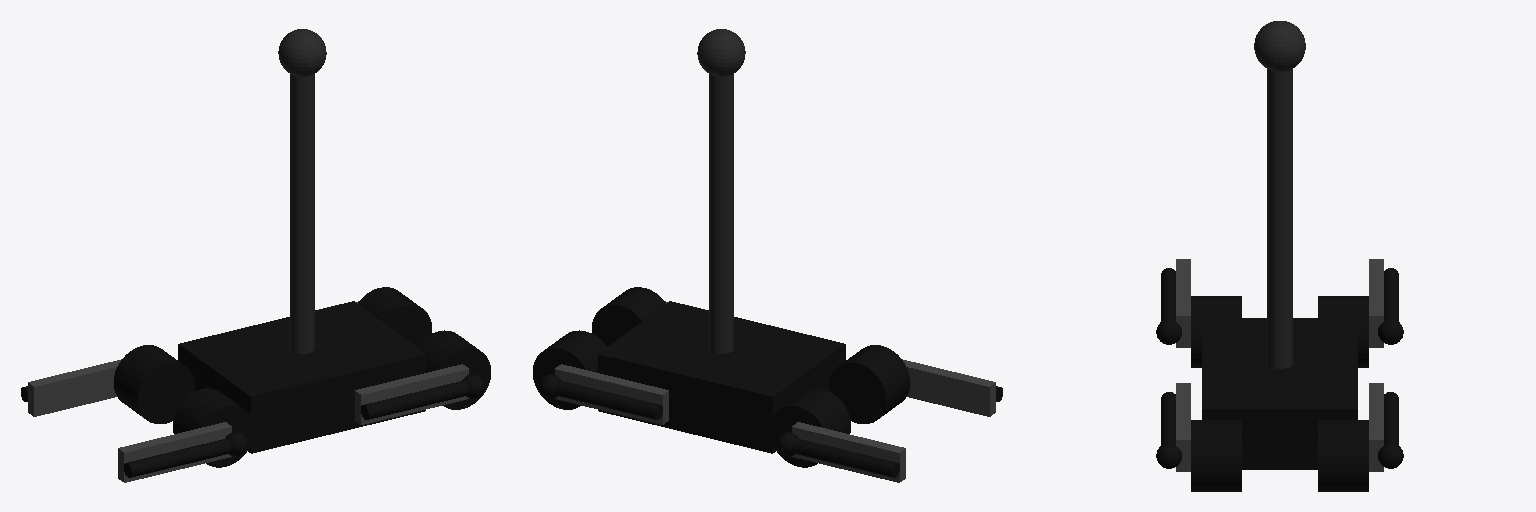
--- Facts derived from the render (not from the file) ---
3 views of the same robot in one strip: view 1: azimuth 30°, elevation 25°; view 2: azimuth 150°, elevation 25°; view 3: azimuth 270°, elevation 25° (orthographic).
Model spirit with 20 links and 19 joints (14 revolute, 5 fixed), rooted at body, posed every joint at zero.
Links seen in each view (by area): view 1: body, tail_link_1, hip1, upper1, hip3, hip2, upper2, upper3, hip0, tail_mass, lower2, lower3; view 2: body, tail_link_1, hip3, upper3, hip1, hip0, upper0, upper1, hip2, tail_mass, lower0, lower1; view 3: body, tail_link_1, hip0, hip2, tail_mass, hip1, hip3, upper0, upper1, upper2, upper3, lower0 (+3 smaller).
Boxes of the visible links, box(x1,y1,x2,y2) form: body: box(178, 301, 425, 453); tail_link_1: box(290, 74, 314, 353); hip1: box(113, 345, 194, 423); upper1: box(28, 359, 121, 416); hip3: box(173, 388, 253, 467); hip2: box(417, 330, 490, 409); upper2: box(355, 364, 468, 424); upper3: box(118, 422, 231, 482); hip0: box(358, 287, 431, 346); tail_mass: box(278, 29, 326, 76); lower2: box(361, 381, 468, 419); lower3: box(124, 438, 231, 477); body: box(598, 301, 845, 453); tail_link_1: box(709, 74, 733, 353); hip3: box(829, 345, 910, 423); upper3: box(902, 359, 995, 416); hip1: box(770, 388, 850, 467); hip0: box(533, 330, 606, 409); upper0: box(555, 364, 668, 424); upper1: box(792, 422, 905, 482); hip2: box(592, 287, 665, 346); tail_mass: box(697, 29, 745, 76); lower0: box(555, 381, 662, 419); lower1: box(792, 438, 899, 477); body: box(1202, 318, 1357, 469); tail_link_1: box(1267, 69, 1292, 368); hip0: box(1318, 420, 1368, 491); hip2: box(1191, 420, 1241, 491); tail_mass: box(1254, 21, 1305, 71); hip1: box(1318, 296, 1368, 367); hip3: box(1191, 296, 1241, 367); upper0: box(1369, 383, 1383, 471); upper1: box(1369, 259, 1383, 347); upper2: box(1176, 383, 1190, 471); upper3: box(1176, 259, 1190, 347); lower0: box(1384, 392, 1398, 445).
Bounding box of the posed robot: 0.7136 × 0.382 × 0.687 m (x, y, z).
Geometry: primitives only (box / cylinder / sphere), no mesh files.

URDF robot description (spirit):
<?xml version="1.0" encoding="utf-8"?>
<!-- =================================================================================== -->
<!-- |    This document was autogenerated by xacro from spirit40_gaz.urdf.xacro        | -->
<!-- |    EDITING THIS FILE BY HAND IS NOT RECOMMENDED                                 | -->
<!-- =================================================================================== -->
<!--
 * Copyright (C) Ghost Robotics - All Rights Reserved
 * Unauthorized copying of this file, via any medium is strictly prohibited
 * Proprietary and confidential
 * Written by Avik De <[email redacted]> and Tom Jacobs <[email redacted]>
-->
<robot name="spirit">
  <!-- Define materials -->
  <material name="gray">
    <color rgba="0.2 0.2 0.2 1.0"/>
  </material>
  <material name="darkgray">
    <color rgba="0.1 0.1 0.1 1.0"/>
  </material>
  <material name="silver">
    <color rgba="0.3 0.3 0.3 1.0"/>
  </material>
  <material name="red">
    <color rgba="0.8 0.0 0.2 1.0"/>
  </material>
  <!-- Body -->
  <link name="body">
    <visual>
      <origin rpy="0 0 0" xyz="0 0 0"/>
      <geometry>
        <box size="0.335 0.24 0.104"/>
      </geometry>
      <material name="darkgray"/>
    </visual>
    <inertial>
      <mass value="5.75"/>
      <!-- Uniform box -->
      <!-- <inertia ixx="1/12*${bodyMass}*(${bodyWidth}*${bodyWidth} + ${bodyHeight}*${bodyHeight})"  ixy="0"  ixz="0" iyy="1/12*${bodyMass}*(${bodyLength}*${bodyLength} + ${bodyHeight}*${bodyHeight})" iyz="0" izz="1/12*${bodyMass}*(${bodyLength}*${bodyLength} + ${bodyWidth}*${bodyWidth})"/> -->
      <inertia ixx="0.05" ixy="0" ixz="0" iyy="0.1" iyz="0" izz="0.1"/>
    </inertial>
    <!-- Just copy geometry for collision -->
    <collision>
      <origin rpy="0 0 0" xyz="0 0 0"/>
      <geometry>
        <box size="0.335 0.24 0.104"/>
      </geometry>
    </collision>
  </link>
  <gazebo reference="body">
    <gravity>true</gravity>
    <sensor name="imu_sensor" type="imu">
      <always_on>true</always_on>
      <visualize>true</visualize>
      <topic>__default_topic_</topic>
      <plugin filename="libgazebo_ros_imu_sensor.so" name="imu_plugin">
        <topicName>imu</topicName>
        <bodyName>body</bodyName>
        <updateRateHZ>500.0</updateRateHZ>
        <gaussianNoise>0.0</gaussianNoise>
        <xyzOffset>0 0 0</xyzOffset>
        <rpyOffset>0 0 0</rpyOffset>
        <frameName>body</frameName>
        <initialOrientationAsReference>true</initialOrientationAsReference>
      </plugin>
      <pose>0 0 0 0 0 0</pose>
    </sensor>
  </gazebo>
  <!-- Hip motor -->
  <link name="hip0">
    <visual>
      <origin rpy="1.5707963268 0 0" xyz="0.0 0.028 0"/>
      <geometry>
        <cylinder length="0.08" radius="0.055"/>
      </geometry>
      <material name="darkgray"/>
    </visual>
    <collision>
      <origin rpy="1.5707963268 0 0" xyz="0 0.028 0"/>
      <geometry>
        <cylinder length="0.08" radius="0.055"/>
      </geometry>
    </collision>
    <inertial>
      <mass value="0.575"/>
      <!-- <inertia ixx="1/12*${podMass}*${podLength}*${podLength} + 1/4*${podMass}*${podRadius}*${podRadius}"  ixy="0"  ixz="0" iyy="1/12*${podMass}*${podLength}*${podLength} + 1/4*${podMass}*${podRadius}*${podRadius}" iyz="0" izz="1/2*${podMass}*${podRadius}*$
				{podRadius}" /> -->
      <inertia ixx="0.00066963541" ixy="0" ixz="0" iyy="0.00066963541" iyz="0" izz="0.0008696875"/>
    </inertial>
  </link>
  <gazebo reference="hip0">
    <material>Gazebo/Gray</material>
  </gazebo>
  <!-- Abduction joint. Joint names are: 8 9 10 11 -->
  <joint name="8" type="revolute">
    <parent link="body"/>
    <child link="hip0"/>
    <axis xyz="1 0 0"/>
    <origin xyz="0.2263 0.07 0"/>
    <limit effort="40" lower="-0.707" upper="0.707" velocity="30"/>
    <dynamics damping="0.0" friction="0.0"/>
  </joint>
  <!-- Transmission elements required for Gazebo -->
  <transmission name="transmission_8">
    <type>transmission_interface/SimpleTransmission</type>
    <joint name="8">
      <hardwareInterface>hardware_interface/EffortJointInterface</hardwareInterface>
    </joint>
    <actuator name="motor_8">
      <hardwareInterface>EffortJointInterface</hardwareInterface>
      <mechanicalReduction>1</mechanicalReduction>
    </actuator>
  </transmission>
  <!-- Upper leg -->
  <link name="upper0">
    <visual>
      <origin rpy="0 0 0" xyz="-0.103 -0.022 0"/>
      <geometry>
        <box size="0.206 0.022 0.055"/>
      </geometry>
      <material name="silver"/>
    </visual>
    <collision>
      <origin rpy="0 0 0" xyz="-0.103 -0.022 0"/>
      <geometry>
        <box size="0.206 0.022 0.055"/>
      </geometry>
    </collision>
    <inertial>
      <origin rpy="0 0 0" xyz="-0.040 -0.041 0"/>
      <mass value="0.792"/>
      <inertia ixx="5e-03" ixy="0" ixz="0" iyy="0.0070" iyz="0" izz="0.0070"/>
    </inertial>
  </link>
  <gazebo reference="upper0">
    <material>Gazebo/Gray</material>
  </gazebo>
  <!-- Hip joint. (Motor to upper leg). Joint names are: 0 2 4 6 -->
  <joint name="0" type="revolute">
    <parent link="hip0"/>
    <child link="upper0"/>
    <axis xyz="0 -1 0"/>
    <origin xyz="0 0.10098 0"/>
    <!--  rpy="0 -0.3 0" -->
    <limit effort="40" lower="-6.28318530718" upper="6.28318530718" velocity="30"/>
    <dynamics damping="0.0" friction="0.0"/>
  </joint>
  <!-- Transmission elements required for Gazebo -->
  <transmission name="transmission_0">
    <type>transmission_interface/SimpleTransmission</type>
    <joint name="0">
      <hardwareInterface>hardware_interface/EffortJointInterface</hardwareInterface>
    </joint>
    <actuator name="motor_0">
      <hardwareInterface>EffortJointInterface</hardwareInterface>
      <mechanicalReduction>1</mechanicalReduction>
    </actuator>
  </transmission>
  <!-- Lower leg -->
  <link name="lower0">
    <visual>
      <origin rpy="0 1.5707963268 0" xyz="0.103 0 0"/>
      <geometry>
        <cylinder length="0.206" radius="0.013"/>
      </geometry>
      <material name="darkgray"/>
    </visual>
    <collision>
      <origin rpy="0 1.5707963268 0" xyz="0.103 0 0"/>
      <geometry>
        <cylinder length="0.206" radius="0.013"/>
      </geometry>
    </collision>
    <inertial>
      <origin rpy="0 0 0" xyz="0.092 0 0"/>
      <mass value="0.096"/>
      <inertia ixx="1.3e-05" ixy="0" ixz="0" iyy="0.00047" iyz="0" izz="0.00047"/>
    </inertial>
  </link>
  <gazebo reference="lower0">
    <material>Gazebo/Black</material>
  </gazebo>
  <!-- Knee joint. Joint names are: 1 3 5 7 -->
  <joint name="1" type="revolute">
    <parent link="upper0"/>
    <child link="lower0"/>
    <axis xyz="0 1 0"/>
    <origin xyz="-0.206 0 0"/>
    <!--rpy="0 0.5 0"-->
    <limit effort="40" lower="0" upper="3.14159265359" velocity="30"/>
    <dynamics damping="0.0" friction="0.0"/>
  </joint>
  <!-- Transmission elements required for Gazebo -->
  <transmission name="transmission_1">
    <type>transmission_interface/SimpleTransmission</type>
    <joint name="1">
      <hardwareInterface>hardware_interface/EffortJointInterface</hardwareInterface>
    </joint>
    <actuator name="motor_1">
      <hardwareInterface>EffortJointInterface</hardwareInterface>
      <mechanicalReduction>1</mechanicalReduction>
    </actuator>
  </transmission>
  <!-- Toe -->
  <link name="toe0">
    <contact>
      <friction_anchor/>
      <stiffness value="30000.0"/>
      <damping value="1000.0"/>
      <spinning_friction value="0.3"/>
      <lateral_friction value="50.0"/>
    </contact>
    <visual>
      <origin rpy="0 0 0" xyz="0 0 0"/>
      <geometry>
        <sphere radius="0.02"/>
      </geometry>
      <material name="darkgray"/>
    </visual>
    <collision>
      <origin rpy="0 0 0" xyz="0 0 0"/>
      <geometry>
        <sphere radius="0.02"/>
      </geometry>
      <surface>
        <friction>
          <ode>
            <mu>100000</mu>
            <mu2>100000</mu2>
          </ode>
        </friction>
        <contact>
          <ode>
            <kp>30000.0</kp>
            <kd>1000.0</kd>
          </ode>
        </contact>
      </surface>
    </collision>
    <inertial>
      <mass value="0.015"/>
      <inertia ixx="0.000025" ixy="0" ixz="0" iyy="0.000025" iyz="0" izz="0.000025"/>
      <!-- <inertia ixx="2/5*${toeMass}*${toeRadius}*${toeRadius}"  ixy="0"  ixz="0" iyy="2/5*${toeMass}*${toeRadius}*${toeRadius}" iyz="0" izz="2/5*${toeMass}*${toeRadius}*${toeRadius}" /> -->
    </inertial>
  </link>
  <gazebo reference="toe0">
    <material>Gazebo/DarkGray</material>
    <collision>
      <surface>
        <bounce>
          <restitution_coefficient>0</restitution_coefficient>
          <threshold>1e+06</threshold>
        </bounce>
        <friction>
          <torsional>
            <coefficient>0.3</coefficient>
          </torsional>
          <ode>
            <mu>100.0</mu>
            <mu2>50.0</mu2>
          </ode>
          <bullet>
            <rolling_friction>0.3</rolling_friction>
            <friction2>50.0</friction2>
          </bullet>
        </friction>
        <contact>
          <bullet>
            <kp>30000.0</kp>
            <kd>1000.0</kd>
          </bullet>
          <ode>
            <kp>30000.0</kp>
            <kd>1000.0</kd>
          </ode>
        </contact>
      </surface>
    </collision>
  </gazebo>
  <joint name="jtoe0" type="fixed">
    <parent link="lower0"/>
    <child link="toe0"/>
    <origin xyz="0.206 0 -0.0"/>
    <dynamics damping="0.0" friction="0.0"/>
  </joint>
  <!-- Hip motor -->
  <link name="hip1">
    <visual>
      <origin rpy="1.5707963268 0 0" xyz="-0.0 0.028 0"/>
      <geometry>
        <cylinder length="0.08" radius="0.055"/>
      </geometry>
      <material name="darkgray"/>
    </visual>
    <collision>
      <origin rpy="1.5707963268 0 0" xyz="0 0.028 0"/>
      <geometry>
        <cylinder length="0.08" radius="0.055"/>
      </geometry>
    </collision>
    <inertial>
      <mass value="0.575"/>
      <!-- <inertia ixx="1/12*${podMass}*${podLength}*${podLength} + 1/4*${podMass}*${podRadius}*${podRadius}"  ixy="0"  ixz="0" iyy="1/12*${podMass}*${podLength}*${podLength} + 1/4*${podMass}*${podRadius}*${podRadius}" iyz="0" izz="1/2*${podMass}*${podRadius}*$
				{podRadius}" /> -->
      <inertia ixx="0.00066963541" ixy="0" ixz="0" iyy="0.00066963541" iyz="0" izz="0.0008696875"/>
    </inertial>
  </link>
  <gazebo reference="hip1">
    <material>Gazebo/Gray</material>
  </gazebo>
  <!-- Abduction joint. Joint names are: 8 9 10 11 -->
  <joint name="9" type="revolute">
    <parent link="body"/>
    <child link="hip1"/>
    <axis xyz="1 0 0"/>
    <origin xyz="-0.2263 0.07 0"/>
    <limit effort="40" lower="-0.707" upper="0.707" velocity="30"/>
    <dynamics damping="0.0" friction="0.0"/>
  </joint>
  <!-- Transmission elements required for Gazebo -->
  <transmission name="transmission_9">
    <type>transmission_interface/SimpleTransmission</type>
    <joint name="9">
      <hardwareInterface>hardware_interface/EffortJointInterface</hardwareInterface>
    </joint>
    <actuator name="motor_9">
      <hardwareInterface>EffortJointInterface</hardwareInterface>
      <mechanicalReduction>1</mechanicalReduction>
    </actuator>
  </transmission>
  <!-- Upper leg -->
  <link name="upper1">
    <visual>
      <origin rpy="0 0 0" xyz="-0.103 -0.022 0"/>
      <geometry>
        <box size="0.206 0.022 0.055"/>
      </geometry>
      <material name="silver"/>
    </visual>
    <collision>
      <origin rpy="0 0 0" xyz="-0.103 -0.022 0"/>
      <geometry>
        <box size="0.206 0.022 0.055"/>
      </geometry>
    </collision>
    <inertial>
      <origin rpy="0 0 0" xyz="-0.040 -0.041 0"/>
      <mass value="0.792"/>
      <inertia ixx="5e-03" ixy="0" ixz="0" iyy="0.0070" iyz="0" izz="0.0070"/>
    </inertial>
  </link>
  <gazebo reference="upper1">
    <material>Gazebo/Gray</material>
  </gazebo>
  <!-- Hip joint. (Motor to upper leg). Joint names are: 0 2 4 6 -->
  <joint name="2" type="revolute">
    <parent link="hip1"/>
    <child link="upper1"/>
    <axis xyz="0 -1 0"/>
    <origin xyz="0 0.10098 0"/>
    <!--  rpy="0 -0.3 0" -->
    <limit effort="40" lower="-6.28318530718" upper="6.28318530718" velocity="30"/>
    <dynamics damping="0.0" friction="0.0"/>
  </joint>
  <!-- Transmission elements required for Gazebo -->
  <transmission name="transmission_2">
    <type>transmission_interface/SimpleTransmission</type>
    <joint name="2">
      <hardwareInterface>hardware_interface/EffortJointInterface</hardwareInterface>
    </joint>
    <actuator name="motor_2">
      <hardwareInterface>EffortJointInterface</hardwareInterface>
      <mechanicalReduction>1</mechanicalReduction>
    </actuator>
  </transmission>
  <!-- Lower leg -->
  <link name="lower1">
    <visual>
      <origin rpy="0 1.5707963268 0" xyz="0.103 0 0"/>
      <geometry>
        <cylinder length="0.206" radius="0.013"/>
      </geometry>
      <material name="darkgray"/>
    </visual>
    <collision>
      <origin rpy="0 1.5707963268 0" xyz="0.103 0 0"/>
      <geometry>
        <cylinder length="0.206" radius="0.013"/>
      </geometry>
    </collision>
    <inertial>
      <origin rpy="0 0 0" xyz="0.092 0 0"/>
      <mass value="0.096"/>
      <inertia ixx="1.3e-05" ixy="0" ixz="0" iyy="0.00047" iyz="0" izz="0.00047"/>
    </inertial>
  </link>
  <gazebo reference="lower1">
    <material>Gazebo/Black</material>
  </gazebo>
  <!-- Knee joint. Joint names are: 1 3 5 7 -->
  <joint name="3" type="revolute">
    <parent link="upper1"/>
    <child link="lower1"/>
    <axis xyz="0 1 0"/>
    <origin xyz="-0.206 0 0"/>
    <!--rpy="0 0.5 0"-->
    <limit effort="40" lower="0" upper="3.14159265359" velocity="30"/>
    <dynamics damping="0.0" friction="0.0"/>
  </joint>
  <!-- Transmission elements required for Gazebo -->
  <transmission name="transmission_3">
    <type>transmission_interface/SimpleTransmission</type>
    <joint name="3">
      <hardwareInterface>hardware_interface/EffortJointInterface</hardwareInterface>
    </joint>
    <actuator name="motor_3">
      <hardwareInterface>EffortJointInterface</hardwareInterface>
      <mechanicalReduction>1</mechanicalReduction>
    </actuator>
  </transmission>
  <!-- Toe -->
  <link name="toe1">
    <contact>
      <friction_anchor/>
      <stiffness value="30000.0"/>
      <damping value="1000.0"/>
      <spinning_friction value="0.3"/>
      <lateral_friction value="50.0"/>
    </contact>
    <visual>
      <origin rpy="0 0 0" xyz="0 0 0"/>
      <geometry>
        <sphere radius="0.02"/>
      </geometry>
      <material name="darkgray"/>
    </visual>
    <collision>
      <origin rpy="0 0 0" xyz="0 0 0"/>
      <geometry>
        <sphere radius="0.02"/>
      </geometry>
      <surface>
        <friction>
          <ode>
            <mu>100000</mu>
            <mu2>100000</mu2>
          </ode>
        </friction>
        <contact>
          <ode>
            <kp>30000.0</kp>
            <kd>1000.0</kd>
          </ode>
        </contact>
      </surface>
    </collision>
    <inertial>
      <mass value="0.015"/>
      <inertia ixx="0.000025" ixy="0" ixz="0" iyy="0.000025" iyz="0" izz="0.000025"/>
      <!-- <inertia ixx="2/5*${toeMass}*${toeRadius}*${toeRadius}"  ixy="0"  ixz="0" iyy="2/5*${toeMass}*${toeRadius}*${toeRadius}" iyz="0" izz="2/5*${toeMass}*${toeRadius}*${toeRadius}" /> -->
    </inertial>
  </link>
  <gazebo reference="toe1">
    <material>Gazebo/DarkGray</material>
    <collision>
      <surface>
        <bounce>
          <restitution_coefficient>0</restitution_coefficient>
          <threshold>1e+06</threshold>
        </bounce>
        <friction>
          <torsional>
            <coefficient>0.3</coefficient>
          </torsional>
          <ode>
            <mu>100.0</mu>
            <mu2>50.0</mu2>
          </ode>
          <bullet>
            <rolling_friction>0.3</rolling_friction>
            <friction2>50.0</friction2>
          </bullet>
        </friction>
        <contact>
          <bullet>
            <kp>30000.0</kp>
            <kd>1000.0</kd>
          </bullet>
          <ode>
            <kp>30000.0</kp>
            <kd>1000.0</kd>
          </ode>
        </contact>
      </surface>
    </collision>
  </gazebo>
  <joint name="jtoe1" type="fixed">
    <parent link="lower1"/>
    <child link="toe1"/>
    <origin xyz="0.206 0 -0.0"/>
    <dynamics damping="0.0" friction="0.0"/>
  </joint>
  <!-- Hip motor -->
  <link name="hip2">
    <visual>
      <origin rpy="1.5707963268 0 0" xyz="0.0 -0.028 0"/>
      <geometry>
        <cylinder length="0.08" radius="0.055"/>
      </geometry>
      <material name="darkgray"/>
    </visual>
    <collision>
      <origin rpy="1.5707963268 0 0" xyz="0 -0.028 0"/>
      <geometry>
        <cylinder length="0.08" radius="0.055"/>
      </geometry>
    </collision>
    <inertial>
      <mass value="0.575"/>
      <!-- <inertia ixx="1/12*${podMass}*${podLength}*${podLength} + 1/4*${podMass}*${podRadius}*${podRadius}"  ixy="0"  ixz="0" iyy="1/12*${podMass}*${podLength}*${podLength} + 1/4*${podMass}*${podRadius}*${podRadius}" iyz="0" izz="1/2*${podMass}*${podRadius}*$
				{podRadius}" /> -->
      <inertia ixx="0.00066963541" ixy="0" ixz="0" iyy="0.00066963541" iyz="0" izz="0.0008696875"/>
    </inertial>
  </link>
  <gazebo reference="hip2">
    <material>Gazebo/Gray</material>
  </gazebo>
  <!-- Abduction joint. Joint names are: 8 9 10 11 -->
  <joint name="10" type="revolute">
    <parent link="body"/>
    <child link="hip2"/>
    <axis xyz="1 0 0"/>
    <origin xyz="0.2263 -0.07 0"/>
    <limit effort="40" lower="-0.707" upper="0.707" velocity="30"/>
    <dynamics damping="0.0" friction="0.0"/>
  </joint>
  <!-- Transmission elements required for Gazebo -->
  <transmission name="transmission_10">
    <type>transmission_interface/SimpleTransmission</type>
    <joint name="10">
      <hardwareInterface>hardware_interface/EffortJointInterface</hardwareInterface>
    </joint>
    <actuator name="motor_10">
      <hardwareInterface>EffortJointInterface</hardwareInterface>
      <mechanicalReduction>1</mechanicalReduction>
    </actuator>
  </transmission>
  <!-- Upper leg -->
  <link name="upper2">
    <visual>
      <origin rpy="0 0 0" xyz="-0.103 0.022 0"/>
      <geometry>
        <box size="0.206 0.022 0.055"/>
      </geometry>
      <material name="silver"/>
    </visual>
    <collision>
      <origin rpy="0 0 0" xyz="-0.103 0.022 0"/>
      <geometry>
        <box size="0.206 0.022 0.055"/>
      </geometry>
    </collision>
    <inertial>
      <origin rpy="0 0 0" xyz="-0.040 0.041 0"/>
      <mass value="0.792"/>
      <inertia ixx="5e-03" ixy="0" ixz="0" iyy="0.0070" iyz="0" izz="0.0070"/>
    </inertial>
  </link>
  <gazebo reference="upper2">
    <material>Gazebo/Gray</material>
  </gazebo>
  <!-- Hip joint. (Motor to upper leg). Joint names are: 0 2 4 6 -->
  <joint name="4" type="revolute">
    <parent link="hip2"/>
    <child link="upper2"/>
    <axis xyz="0 -1 0"/>
    <origin xyz="0 -0.10098 0"/>
    <!--  rpy="0 -0.3 0" -->
    <limit effort="40" lower="-6.28318530718" upper="6.28318530718" velocity="30"/>
    <dynamics damping="0.0" friction="0.0"/>
  </joint>
  <!-- Transmission elements required for Gazebo -->
  <transmission name="transmission_4">
    <type>transmission_interface/SimpleTransmission</type>
    <joint name="4">
      <hardwareInterface>hardware_interface/EffortJointInterface</hardwareInterface>
    </joint>
    <actuator name="motor_4">
      <hardwareInterface>EffortJointInterface</hardwareInterface>
      <mechanicalReduction>1</mechanicalReduction>
    </actuator>
  </transmission>
  <!-- Lower leg -->
  <link name="lower2">
    <visual>
      <origin rpy="0 1.5707963268 0" xyz="0.103 0 0"/>
      <geometry>
        <cylinder length="0.206" radius="0.013"/>
      </geometry>
      <material name="darkgray"/>
    </visual>
    <collision>
      <origin rpy="0 1.5707963268 0" xyz="0.103 0 0"/>
      <geometry>
        <cylinder length="0.206" radius="0.013"/>
      </geometry>
    </collision>
    <inertial>
      <origin rpy="0 0 0" xyz="0.092 0 0"/>
      <mass value="0.096"/>
      <inertia ixx="1.3e-05" ixy="0" ixz="0" iyy="0.00047" iyz="0" izz="0.00047"/>
    </inertial>
  </link>
  <gazebo reference="lower2">
    <material>Gazebo/Black</material>
  </gazebo>
  <!-- Knee joint. Joint names are: 1 3 5 7 -->
  <joint name="5" type="revolute">
    <parent link="upper2"/>
    <child link="lower2"/>
    <axis xyz="0 1 0"/>
    <origin xyz="-0.206 0 0"/>
    <!--rpy="0 0.5 0"-->
    <limit effort="40" lower="0" upper="3.14159265359" velocity="30"/>
    <dynamics damping="0.0" friction="0.0"/>
  </joint>
  <!-- Transmission elements required for Gazebo -->
  <transmission name="transmission_5">
    <type>transmission_interface/SimpleTransmission</type>
    <joint name="5">
      <hardwareInterface>hardware_interface/EffortJointInterface</hardwareInterface>
    </joint>
    <actuator name="motor_5">
      <hardwareInterface>EffortJointInterface</hardwareInterface>
      <mechanicalReduction>1</mechanicalReduction>
    </actuator>
  </transmission>
  <!-- Toe -->
  <link name="toe2">
    <contact>
      <friction_anchor/>
      <stiffness value="30000.0"/>
      <damping value="1000.0"/>
      <spinning_friction value="0.3"/>
      <lateral_friction value="50.0"/>
    </contact>
    <visual>
      <origin rpy="0 0 0" xyz="0 0 0"/>
      <geometry>
        <sphere radius="0.02"/>
      </geometry>
      <material name="darkgray"/>
    </visual>
    <collision>
      <origin rpy="0 0 0" xyz="0 0 0"/>
      <geometry>
        <sphere radius="0.02"/>
      </geometry>
      <surface>
        <friction>
          <ode>
            <mu>100000</mu>
            <mu2>100000</mu2>
          </ode>
        </friction>
        <contact>
          <ode>
            <kp>30000.0</kp>
            <kd>1000.0</kd>
          </ode>
        </contact>
      </surface>
    </collision>
    <inertial>
      <mass value="0.015"/>
      <inertia ixx="0.000025" ixy="0" ixz="0" iyy="0.000025" iyz="0" izz="0.000025"/>
      <!-- <inertia ixx="2/5*${toeMass}*${toeRadius}*${toeRadius}"  ixy="0"  ixz="0" iyy="2/5*${toeMass}*${toeRadius}*${toeRadius}" iyz="0" izz="2/5*${toeMass}*${toeRadius}*${toeRadius}" /> -->
    </inertial>
  </link>
  <gazebo reference="toe2">
    <material>Gazebo/DarkGray</material>
    <collision>
      <surface>
        <bounce>
          <restitution_coefficient>0</restitution_coefficient>
          <threshold>1e+06</threshold>
        </bounce>
        <friction>
          <torsional>
            <coefficient>0.3</coefficient>
          </torsional>
          <ode>
            <mu>100.0</mu>
            <mu2>50.0</mu2>
          </ode>
          <bullet>
            <rolling_friction>0.3</rolling_friction>
            <friction2>50.0</friction2>
          </bullet>
        </friction>
        <contact>
          <bullet>
            <kp>30000.0</kp>
            <kd>1000.0</kd>
          </bullet>
          <ode>
            <kp>30000.0</kp>
            <kd>1000.0</kd>
          </ode>
        </contact>
      </surface>
    </collision>
  </gazebo>
  <joint name="jtoe2" type="fixed">
    <parent link="lower2"/>
    <child link="toe2"/>
    <origin xyz="0.206 0 -0.0"/>
    <dynamics damping="0.0" friction="0.0"/>
  </joint>
  <!-- Hip motor -->
  <link name="hip3">
    <visual>
      <origin rpy="1.5707963268 0 0" xyz="-0.0 -0.028 0"/>
      <geometry>
        <cylinder length="0.08" radius="0.055"/>
      </geometry>
      <material name="darkgray"/>
    </visual>
    <collision>
      <origin rpy="1.5707963268 0 0" xyz="0 -0.028 0"/>
      <geometry>
        <cylinder length="0.08" radius="0.055"/>
      </geometry>
    </collision>
    <inertial>
      <mass value="0.575"/>
      <!-- <inertia ixx="1/12*${podMass}*${podLength}*${podLength} + 1/4*${podMass}*${podRadius}*${podRadius}"  ixy="0"  ixz="0" iyy="1/12*${podMass}*${podLength}*${podLength} + 1/4*${podMass}*${podRadius}*${podRadius}" iyz="0" izz="1/2*${podMass}*${podRadius}*$
				{podRadius}" /> -->
      <inertia ixx="0.00066963541" ixy="0" ixz="0" iyy="0.00066963541" iyz="0" izz="0.0008696875"/>
    </inertial>
  </link>
  <gazebo reference="hip3">
    <material>Gazebo/Gray</material>
  </gazebo>
  <!-- Abduction joint. Joint names are: 8 9 10 11 -->
  <joint name="11" type="revolute">
    <parent link="body"/>
    <child link="hip3"/>
    <axis xyz="1 0 0"/>
    <origin xyz="-0.2263 -0.07 0"/>
    <limit effort="40" lower="-0.707" upper="0.707" velocity="30"/>
    <dynamics damping="0.0" friction="0.0"/>
  </joint>
  <!-- Transmission elements required for Gazebo -->
  <transmission name="transmission_11">
    <type>transmission_interface/SimpleTransmission</type>
    <joint name="11">
      <hardwareInterface>hardware_interface/EffortJointInterface</hardwareInterface>
    </joint>
    <actuator name="motor_11">
      <hardwareInterface>EffortJointInterface</hardwareInterface>
      <mechanicalReduction>1</mechanicalReduction>
    </actuator>
  </transmission>
  <!-- Upper leg -->
  <link name="upper3">
    <visual>
      <origin rpy="0 0 0" xyz="-0.103 0.022 0"/>
      <geometry>
        <box size="0.206 0.022 0.055"/>
      </geometry>
      <material name="silver"/>
    </visual>
    <collision>
      <origin rpy="0 0 0" xyz="-0.103 0.022 0"/>
      <geometry>
        <box size="0.206 0.022 0.055"/>
      </geometry>
    </collision>
    <inertial>
      <origin rpy="0 0 0" xyz="-0.040 0.041 0"/>
      <mass value="0.792"/>
      <inertia ixx="5e-03" ixy="0" ixz="0" iyy="0.0070" iyz="0" izz="0.0070"/>
    </inertial>
  </link>
  <gazebo reference="upper3">
    <material>Gazebo/Gray</material>
  </gazebo>
  <!-- Hip joint. (Motor to upper leg). Joint names are: 0 2 4 6 -->
  <joint name="6" type="revolute">
    <parent link="hip3"/>
    <child link="upper3"/>
    <axis xyz="0 -1 0"/>
    <origin xyz="0 -0.10098 0"/>
    <!--  rpy="0 -0.3 0" -->
    <limit effort="40" lower="-6.28318530718" upper="6.28318530718" velocity="30"/>
    <dynamics damping="0.0" friction="0.0"/>
  </joint>
  <!-- Transmission elements required for Gazebo -->
  <transmission name="transmission_6">
    <type>transmission_interface/SimpleTransmission</type>
    <joint name="6">
      <hardwareInterface>hardware_interface/EffortJointInterface</hardwareInterface>
    </joint>
    <actuator name="motor_6">
      <hardwareInterface>EffortJointInterface</hardwareInterface>
      <mechanicalReduction>1</mechanicalReduction>
    </actuator>
  </transmission>
  <!-- Lower leg -->
  <link name="lower3">
    <visual>
      <origin rpy="0 1.5707963268 0" xyz="0.103 0 0"/>
      <geometry>
        <cylinder length="0.206" radius="0.013"/>
      </geometry>
      <material name="darkgray"/>
    </visual>
    <collision>
      <origin rpy="0 1.5707963268 0" xyz="0.103 0 0"/>
      <geometry>
        <cylinder length="0.206" radius="0.013"/>
      </geometry>
    </collision>
    <inertial>
      <origin rpy="0 0 0" xyz="0.092 0 0"/>
      <mass value="0.096"/>
      <inertia ixx="1.3e-05" ixy="0" ixz="0" iyy="0.00047" iyz="0" izz="0.00047"/>
    </inertial>
  </link>
  <gazebo reference="lower3">
    <material>Gazebo/Black</material>
  </gazebo>
  <!-- Knee joint. Joint names are: 1 3 5 7 -->
  <joint name="7" type="revolute">
    <parent link="upper3"/>
    <child link="lower3"/>
    <axis xyz="0 1 0"/>
    <origin xyz="-0.206 0 0"/>
    <!--rpy="0 0.5 0"-->
    <limit effort="40" lower="0" upper="3.14159265359" velocity="30"/>
    <dynamics damping="0.0" friction="0.0"/>
  </joint>
  <!-- Transmission elements required for Gazebo -->
  <transmission name="transmission_7">
    <type>transmission_interface/SimpleTransmission</type>
    <joint name="7">
      <hardwareInterface>hardware_interface/EffortJointInterface</hardwareInterface>
    </joint>
    <actuator name="motor_7">
      <hardwareInterface>EffortJointInterface</hardwareInterface>
      <mechanicalReduction>1</mechanicalReduction>
    </actuator>
  </transmission>
  <!-- Toe -->
  <link name="toe3">
    <contact>
      <friction_anchor/>
      <stiffness value="30000.0"/>
      <damping value="1000.0"/>
      <spinning_friction value="0.3"/>
      <lateral_friction value="50.0"/>
    </contact>
    <visual>
      <origin rpy="0 0 0" xyz="0 0 0"/>
      <geometry>
        <sphere radius="0.02"/>
      </geometry>
      <material name="darkgray"/>
    </visual>
    <collision>
      <origin rpy="0 0 0" xyz="0 0 0"/>
      <geometry>
        <sphere radius="0.02"/>
      </geometry>
      <surface>
        <friction>
          <ode>
            <mu>100000</mu>
            <mu2>100000</mu2>
          </ode>
        </friction>
        <contact>
          <ode>
            <kp>30000.0</kp>
            <kd>1000.0</kd>
          </ode>
        </contact>
      </surface>
    </collision>
    <inertial>
      <mass value="0.015"/>
      <inertia ixx="0.000025" ixy="0" ixz="0" iyy="0.000025" iyz="0" izz="0.000025"/>
      <!-- <inertia ixx="2/5*${toeMass}*${toeRadius}*${toeRadius}"  ixy="0"  ixz="0" iyy="2/5*${toeMass}*${toeRadius}*${toeRadius}" iyz="0" izz="2/5*${toeMass}*${toeRadius}*${toeRadius}" /> -->
    </inertial>
  </link>
  <gazebo reference="toe3">
    <material>Gazebo/DarkGray</material>
    <collision>
      <surface>
        <bounce>
          <restitution_coefficient>0</restitution_coefficient>
          <threshold>1e+06</threshold>
        </bounce>
        <friction>
          <torsional>
            <coefficient>0.3</coefficient>
          </torsional>
          <ode>
            <mu>100.0</mu>
            <mu2>50.0</mu2>
          </ode>
          <bullet>
            <rolling_friction>0.3</rolling_friction>
            <friction2>50.0</friction2>
          </bullet>
        </friction>
        <contact>
          <bullet>
            <kp>30000.0</kp>
            <kd>1000.0</kd>
          </bullet>
          <ode>
            <kp>30000.0</kp>
            <kd>1000.0</kd>
          </ode>
        </contact>
      </surface>
    </collision>
  </gazebo>
  <joint name="jtoe3" type="fixed">
    <parent link="lower3"/>
    <child link="toe3"/>
    <origin xyz="0.206 0 -0.0"/>
    <dynamics damping="0.0" friction="0.0"/>
  </joint>

  <!-- Tail link -->
  <link name="tail_link_0">
    <visual>
      <origin rpy="0 0 0" xyz="0 0 0"/>
      <geometry>
        <sphere radius="0.02"/>
      </geometry>
      <material name="gray"/>
    </visual>
    <inertial>
      <mass value="1e-03"/>
      <inertia ixx="1e-04" ixy="0" ixz="0" iyy="1e-04" iyz="0" izz="1e-04"/>
    </inertial>
  </link>
  <gazebo reference="tail_link_0">
    <material>Gazebo/Gray</material>
  </gazebo>
  <link name="tail_link_1">
    <visual>
      <origin rpy="0 0 0" xyz="0 0 0.27"/>
      <geometry>
        <cylinder length="0.54" radius="0.02"/>
      </geometry>
      <material name="gray"/>
    </visual>
    <inertial>
      <mass value="1e-03"/>
      <inertia ixx="1e-04" ixy="0" ixz="0" iyy="1e-04" iyz="0" izz="1e-04"/>
    </inertial>
  </link>
  <gazebo reference="tail_link_1">
    <material>Gazebo/Gray</material>
  </gazebo>
  <link name="tail_mass">
    <visual>
      <origin rpy="0 0 0" xyz="0 0 0"/>
      <geometry>
        <sphere radius="0.04"/>
      </geometry>
      <material name="gray"/>
    </visual>
    <inertial>
      <mass value="0.3"/>
      <inertia ixx="3e-04" ixy="0" ixz="0" iyy="3e-04" iyz="0" izz="3e-04"/>
    </inertial>
  </link>
  <gazebo reference="tail_mass">
    <material>Gazebo/Gray</material>
  </gazebo>

  <!-- Tail joint -->
  <joint name="body_tail_joint_0" type="revolute">
    <parent link="body"/>
    <child link="tail_link_0"/>
    <axis xyz="1 0 0"/>
    <origin xyz="0 0 0.052"/>
    <limit effort="10" lower="-1.57" upper="1.57" velocity="1.79769e+308"/>
    <dynamics damping="0.0" friction="0.0"/>
  </joint>
  <!-- Transmission elements required for Gazebo -->
  <transmission name="transmission_body_tail_joint_0">
    <type>transmission_interface/SimpleTransmission</type>
    <joint name="body_tail_joint_0">
      <hardwareInterface>hardware_interface/EffortJointInterface</hardwareInterface>
    </joint>
    <actuator name="motor_body_tail_joint_0">
      <hardwareInterface>EffortJointInterface</hardwareInterface>
      <mechanicalReduction>1</mechanicalReduction>
    </actuator>
  </transmission>
  <joint name="body_tail_joint_1" type="revolute">
    <parent link="tail_link_0"/>
    <child link="tail_link_1"/>
    <axis xyz="0 1 0"/>
    <origin xyz="0 0 0"/>
    <limit effort="10" lower="-1.57" upper="1.57" velocity="1.79769e+308"/>
    <dynamics damping="0.0" friction="0.0"/>
  </joint>
  <!-- Transmission elements required for Gazebo -->
  <transmission name="transmission_body_tail_joint_1">
    <type>transmission_interface/SimpleTransmission</type>
    <joint name="body_tail_joint_1">
      <hardwareInterface>hardware_interface/EffortJointInterface</hardwareInterface>
    </joint>
    <actuator name="motor_body_tail_joint_1">
      <hardwareInterface>EffortJointInterface</hardwareInterface>
      <mechanicalReduction>1</mechanicalReduction>
    </actuator>
  </transmission>
  <joint name="tail_link_mass_joint" type="fixed">
    <parent link="tail_link_1"/>
    <child link="tail_mass"/>
    <origin xyz="0 0 0.54"/>
    <dynamics damping="0.0" friction="0.0"/>
  </joint>

</robot>
